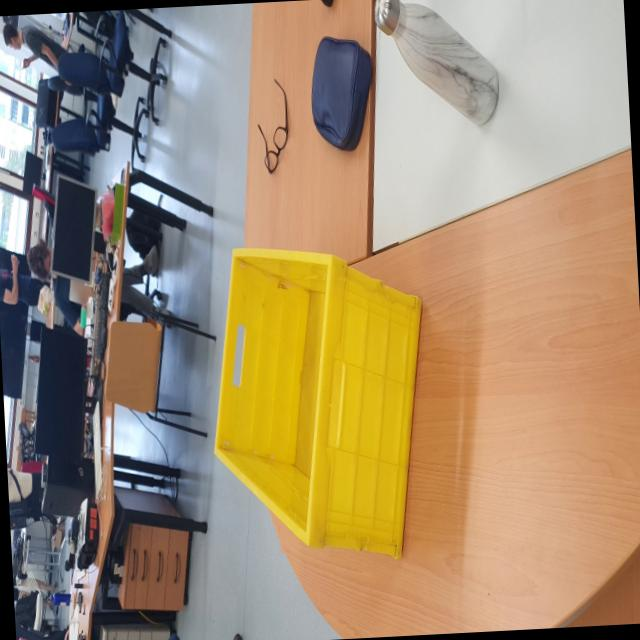box: (193, 225, 458, 606)
